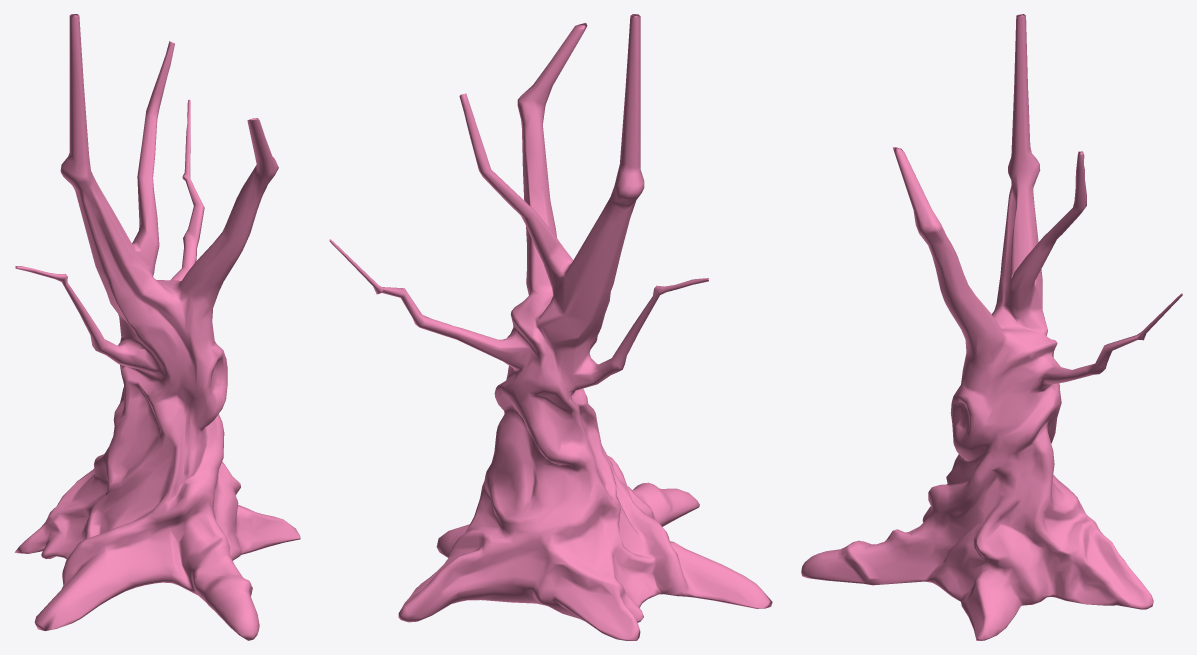
The model's file is tree_heighZB02.fbx.
3 views of the same model, side by side, from view 1: azimuth 30°, elevation 25°; view 2: azimuth 150°, elevation 25°; view 3: azimuth 270°, elevation 25° (orthographic). The views are drawn at different scales.
Visible parts, largest first — view 1: tree_heighZB; view 2: tree_heighZB; view 3: tree_heighZB.
Boxes of the visible parts, x1,y1,x2,y2 form: tree_heighZB: (14,14,300,640); tree_heighZB: (329,14,772,640); tree_heighZB: (801,14,1182,640).
Size of the model in its own units: 503 by 946 by 610.
